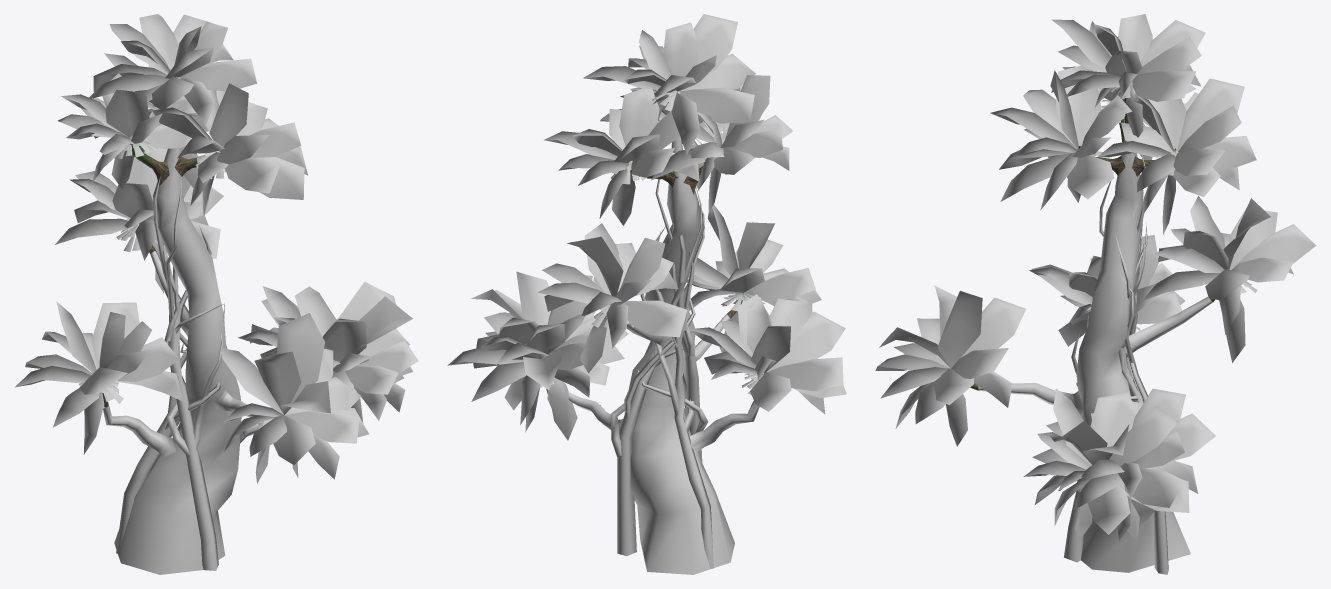
The model's file is Plant6_1_L3.fbx.
3 renders of one model, left to right at view 1: azimuth 30°, elevation 25°; view 2: azimuth 150°, elevation 25°; view 3: azimuth 270°, elevation 25°, orthographic. The views are drawn at different scales.
Visible parts, largest first — view 1: polySurface2050; view 2: polySurface2050; view 3: polySurface2050.
Part boxes in pixels (<box>): polySurface2050: <box>14,14,418,574</box>; polySurface2050: <box>447,14,846,574</box>; polySurface2050: <box>875,14,1316,574</box>.
Bounding box in the file's own units: 704 × 926 × 695.
